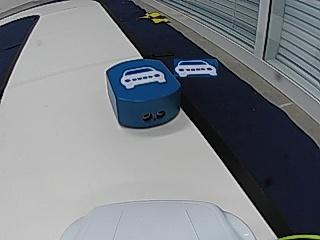safety: (120, 65, 167, 89)
